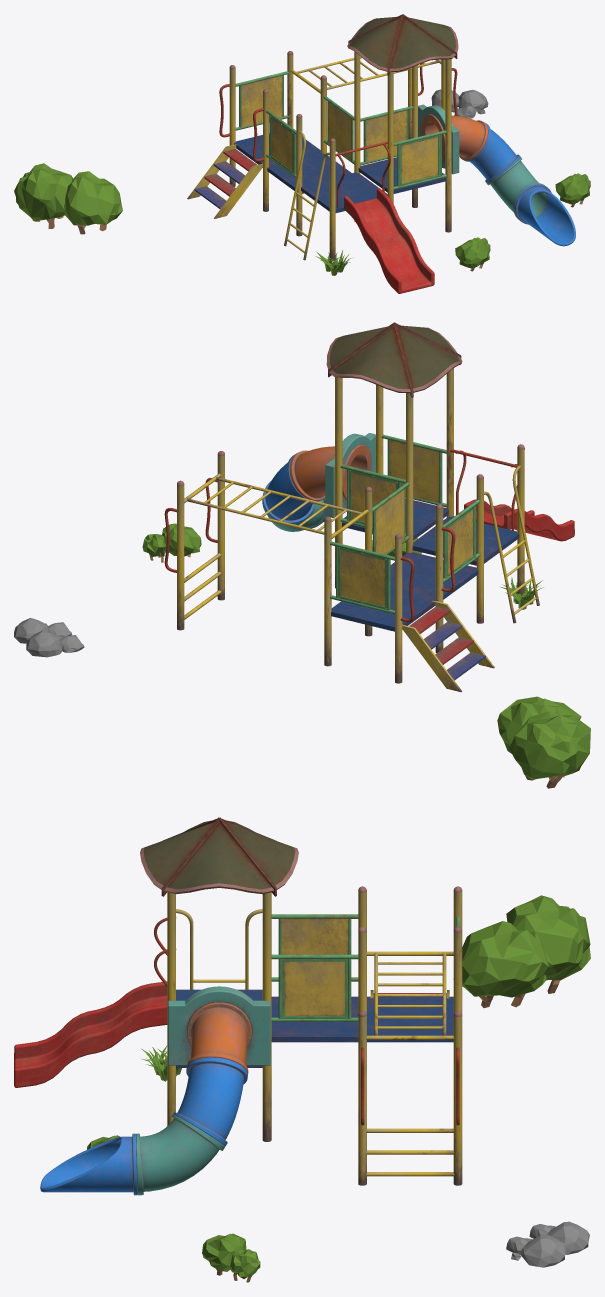
File: Juegos.obj
The picture shows the model from 3 angles, top to bottom: view 1: azimuth 30°, elevation 25°; view 2: azimuth 150°, elevation 25°; view 3: azimuth 270°, elevation 25°; orthographic projection. The views are drawn at different scales.
Visible parts, largest first — view 1: playground, Bush_group_average001, Bush_group_small, Bush_group_small001, Stone_group_average001; view 2: playground, Bush_group_average001, Bush_group_small001, Stone_group_average, Stone_group_average001; view 3: playground, Bush_group_average001, Bush_group_small001, Stone_group_average001, Stone_group_average.
Part boxes in pixels (left/top/right/bottom): playground: left=187, top=14, right=575, bottom=293; Bush_group_average001: left=14, top=163, right=122, bottom=234; Bush_group_small: left=455, top=237, right=490, bottom=271; Bush_group_small001: left=555, top=173, right=590, bottom=207; Stone_group_average001: left=457, top=89, right=488, bottom=118; playground: left=164, top=322, right=574, bottom=692; Bush_group_average001: left=497, top=696, right=590, bottom=788; Bush_group_small001: left=142, top=523, right=201, bottom=562; Stone_group_average: left=26, top=630, right=84, bottom=657; Stone_group_average001: left=14, top=618, right=72, bottom=643; playground: left=14, top=817, right=462, bottom=1195; Bush_group_average001: left=453, top=895, right=590, bottom=1007; Bush_group_small001: left=202, top=1233, right=260, bottom=1282; Stone_group_average001: left=506, top=1234, right=566, bottom=1267; Stone_group_average: left=529, top=1221, right=589, bottom=1254.
Bounding box in the file's own units: 77.69 × 37.16 × 58.38.
Materials: 2 (2 with a texture image).
